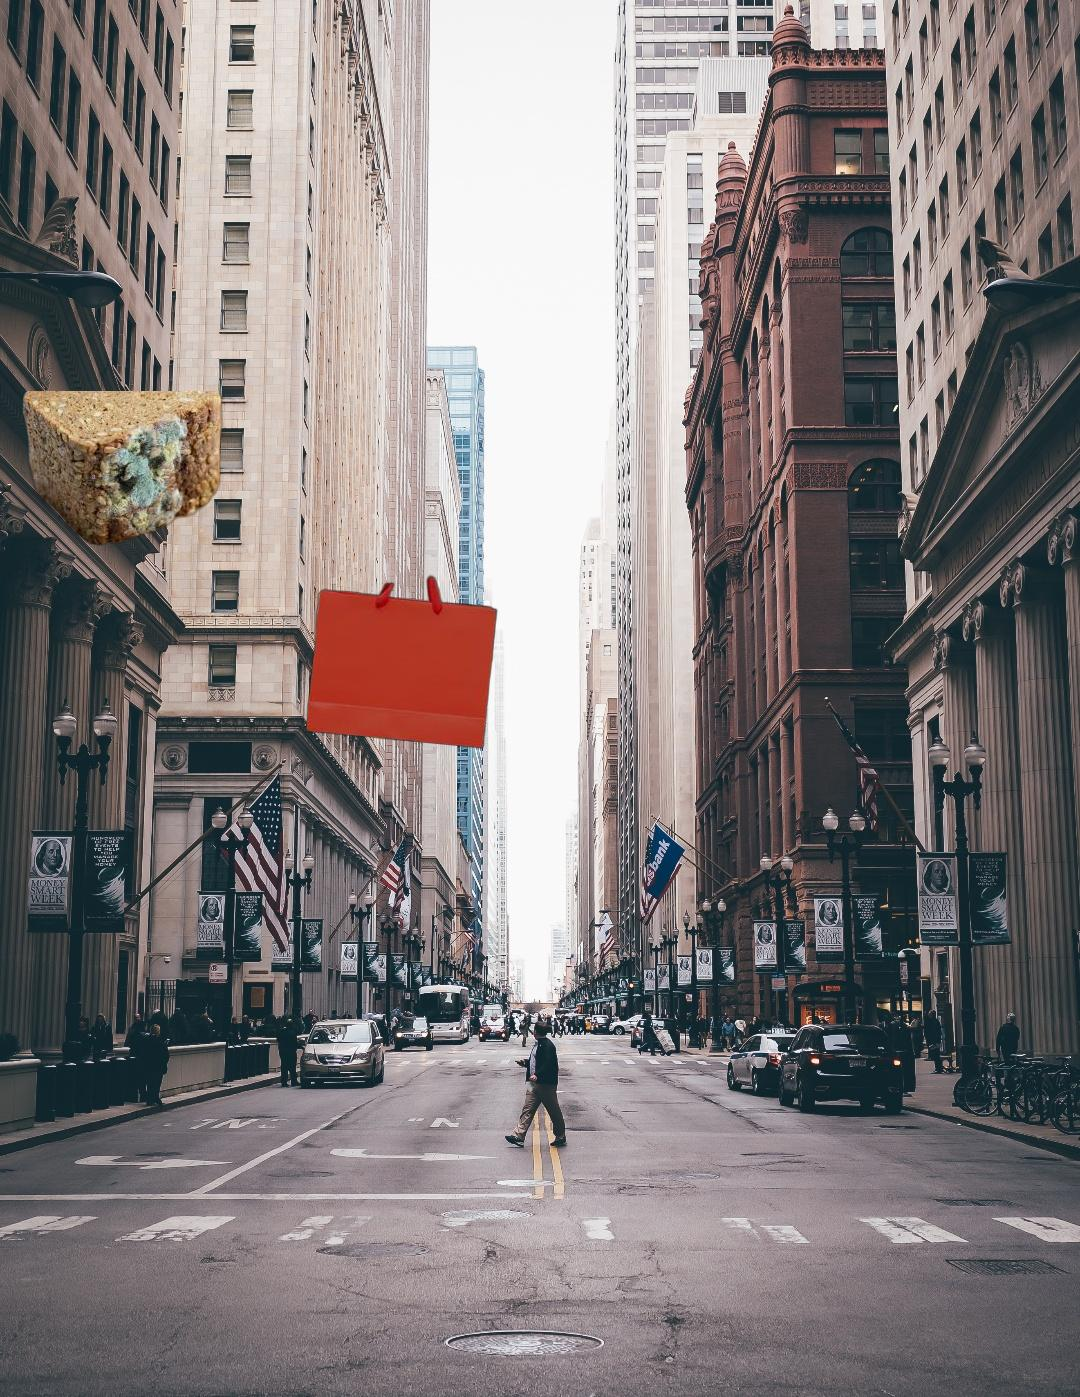biological: (20, 391, 226, 548)
paper-bag: (303, 573, 500, 751)
